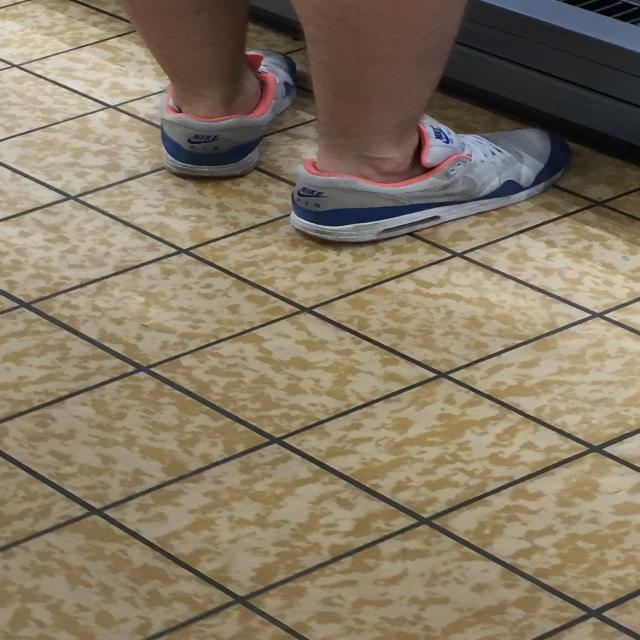shoe: (276, 109, 562, 268), (126, 41, 316, 193)
